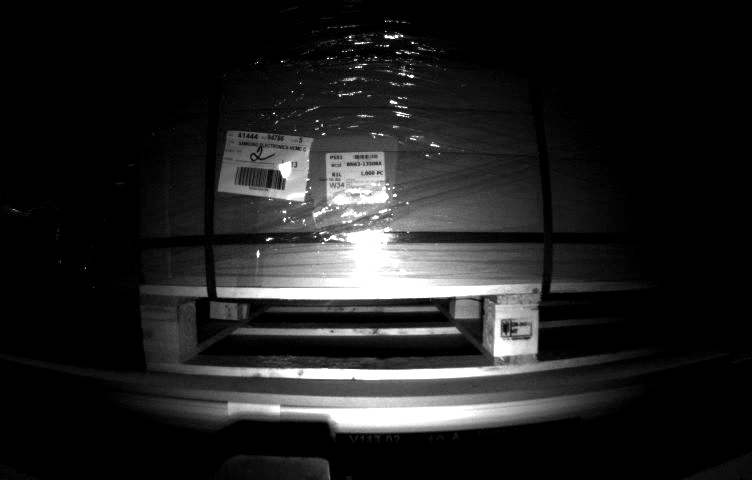True Barcode: (321, 148, 391, 206)
